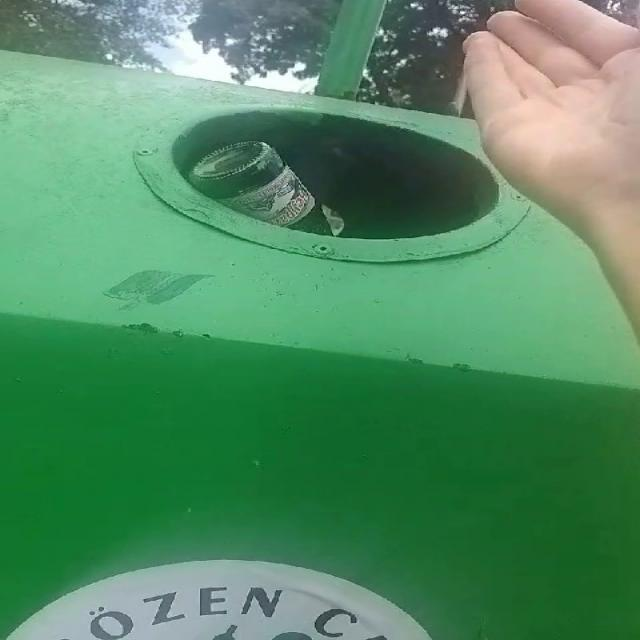glass: (188, 142, 331, 234)
